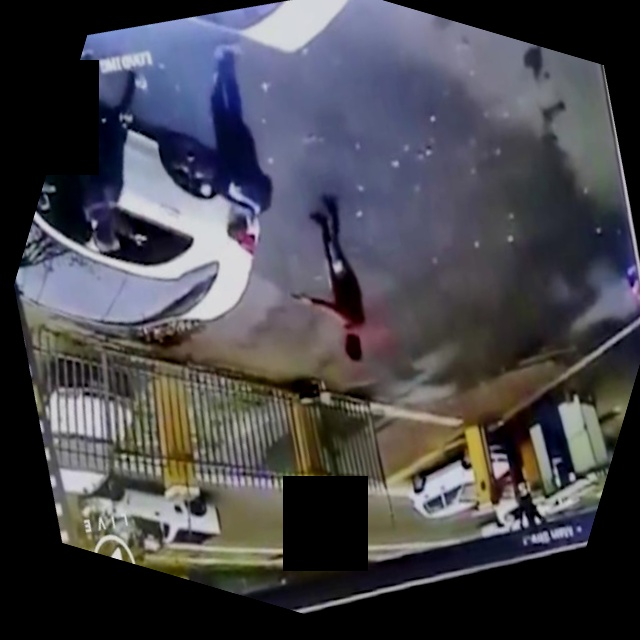gun: (282, 282, 314, 315)
